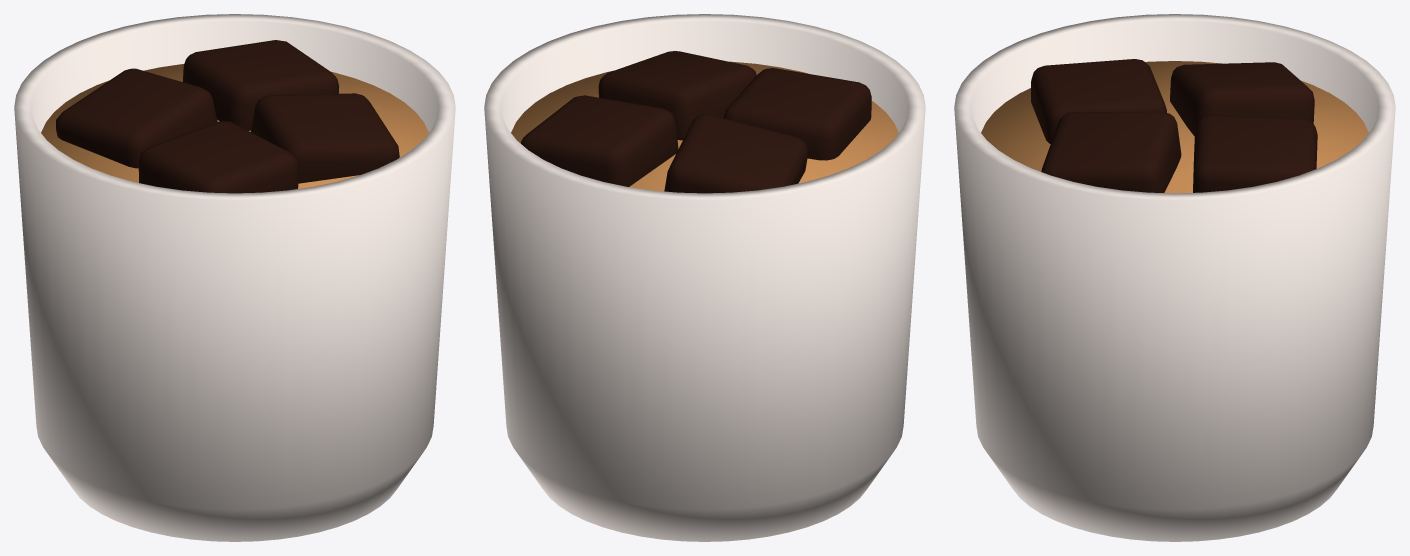
File: Menu_CafeMocha.fbx
3 renders of one model, left to right at view 1: azimuth 30°, elevation 25°; view 2: azimuth 150°, elevation 25°; view 3: azimuth 270°, elevation 25°, orthographic.
Visible parts, largest first — view 1: Menu_CafeMocha.001; view 2: Menu_CafeMocha.001; view 3: Menu_CafeMocha.001.
Boxes of the visible parts, x1,y1,x2,y2 form: Menu_CafeMocha.001: (14, 14, 455, 541); Menu_CafeMocha.001: (484, 14, 925, 541); Menu_CafeMocha.001: (954, 14, 1395, 541).
Size of the model in its own units: 49.66 by 46.33 by 49.66.
